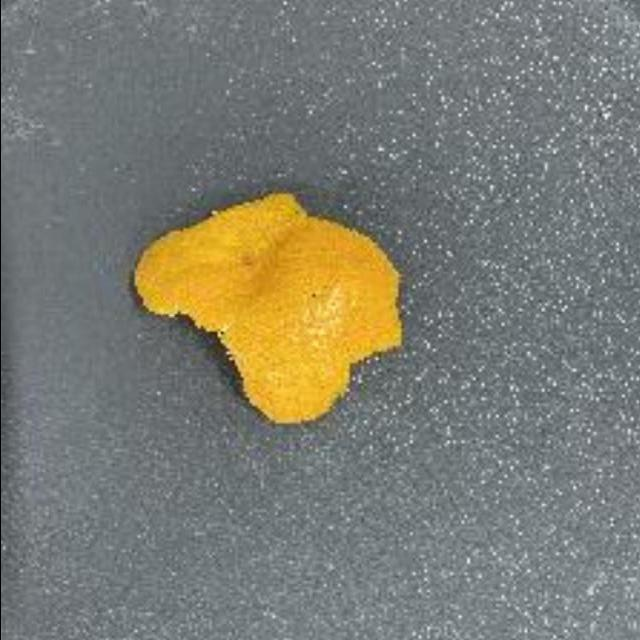orange peel: (132, 188, 408, 432)
